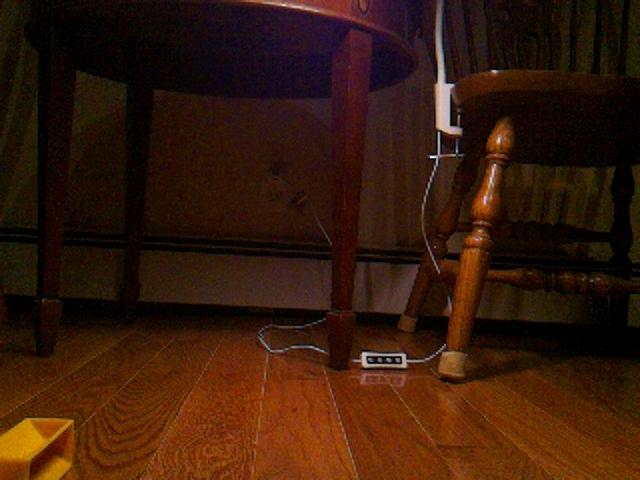yellow: (1, 415, 77, 480)
